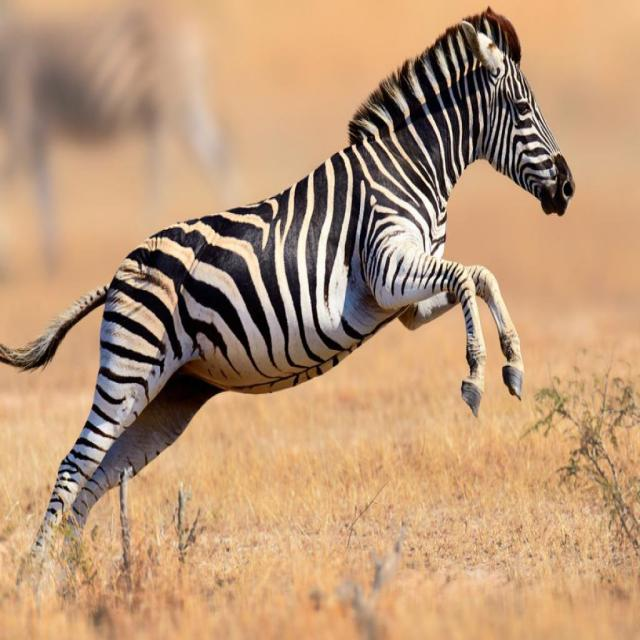zebra: (0, 8, 574, 547)
